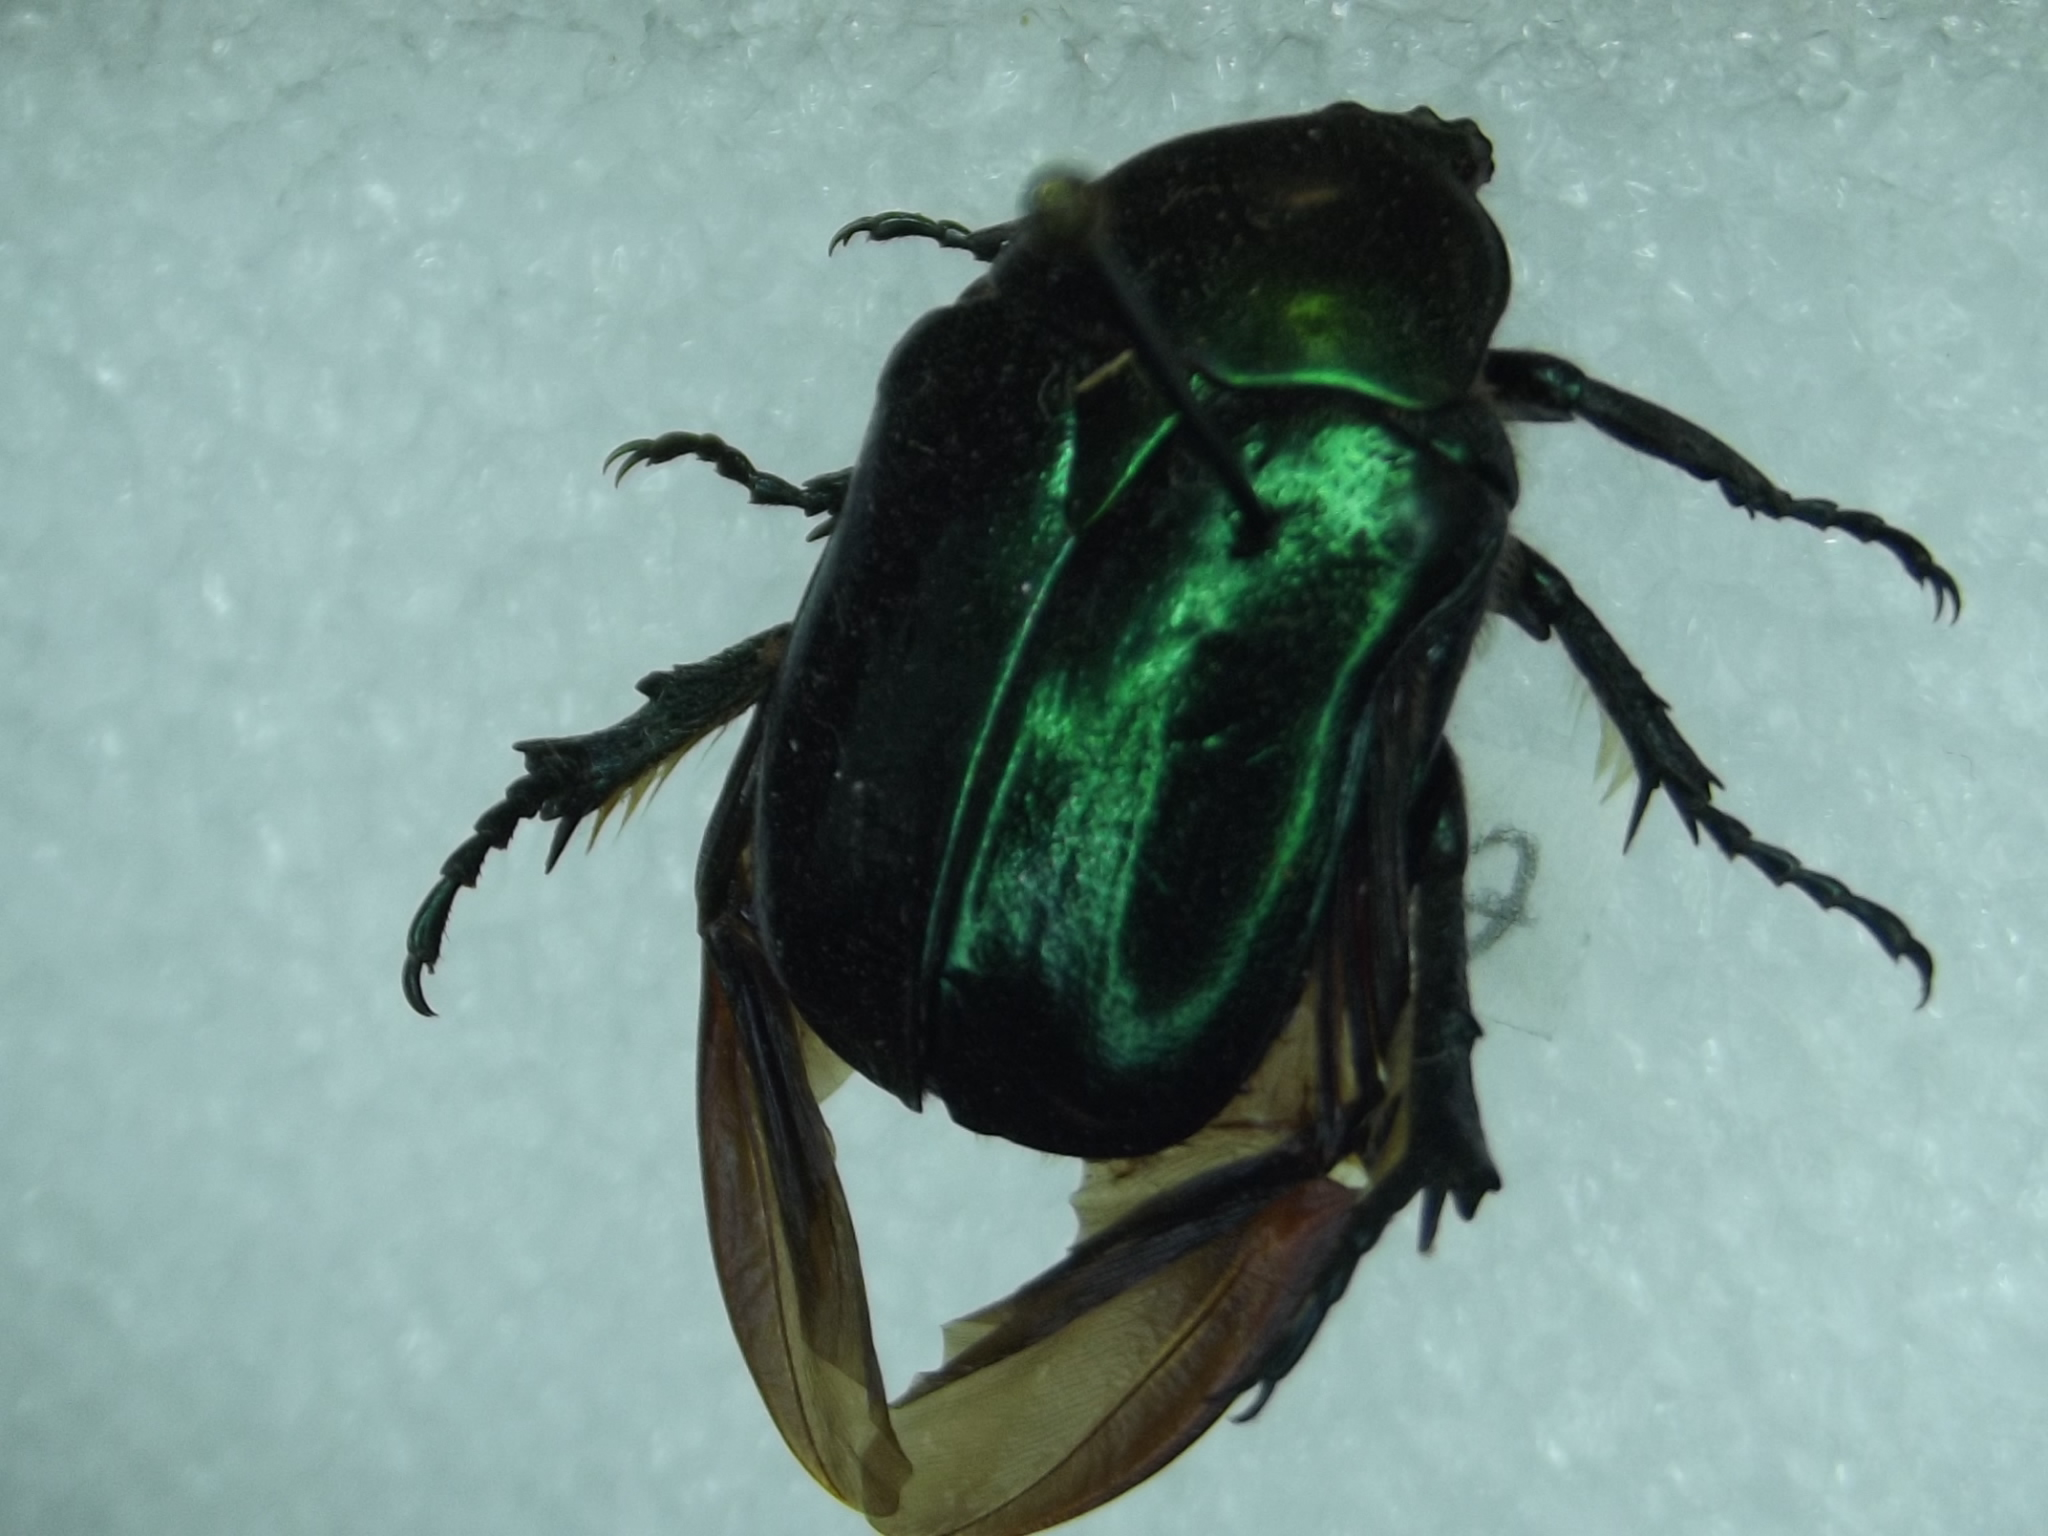Protaetia_angustata_angustata: (397, 89, 1975, 1225)
